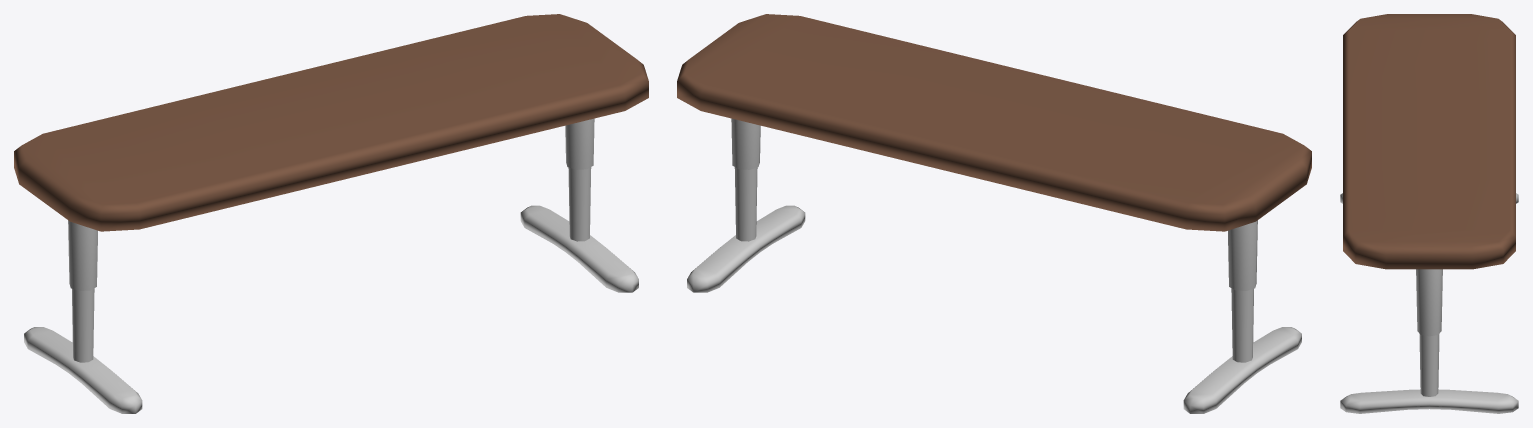
Rendered from mesh_table_b_01.fbx.
3 views of the same model, side by side, from view 1: azimuth 30°, elevation 25°; view 2: azimuth 150°, elevation 25°; view 3: azimuth 270°, elevation 25° (orthographic). The views are drawn at different scales.
Visible parts, largest first — view 1: mesh_table_b_01; view 2: mesh_table_b_01; view 3: mesh_table_b_01.
Part boxes in pixels (box(x1,y1,x2,y2)): mesh_table_b_01: box(14, 14, 648, 413); mesh_table_b_01: box(677, 14, 1311, 413); mesh_table_b_01: box(1340, 14, 1518, 413).
Bounding box in the file's own units: 70.5 × 24.14 × 22.36.
